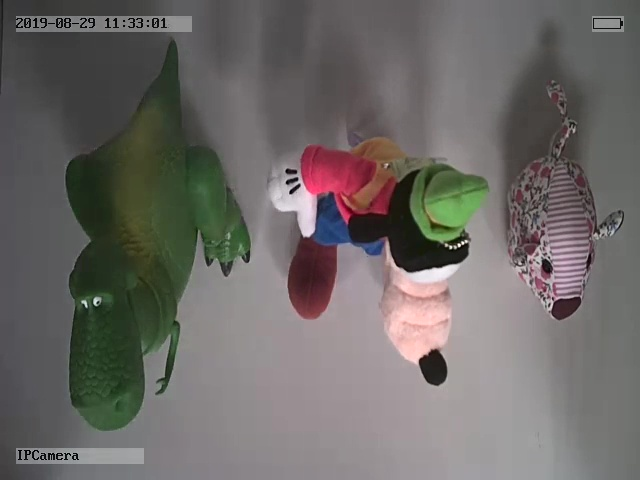goofy: (267, 135, 488, 386)
pig: (504, 80, 624, 320)
rex: (63, 38, 254, 431)
